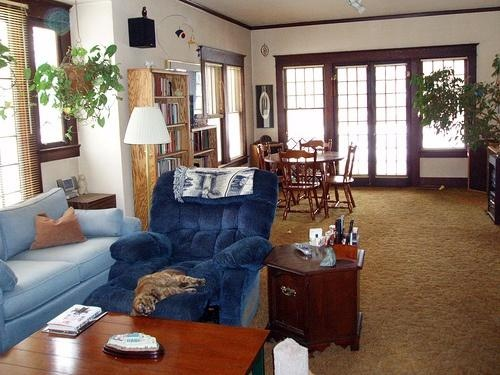cat: (132, 269, 209, 319)
chair: (83, 167, 281, 330), (278, 149, 323, 222), (321, 146, 358, 215), (299, 138, 335, 205)
diningtable: (263, 152, 344, 208)
pottedplant: (25, 46, 125, 128), (412, 55, 500, 148)
sofa: (1, 186, 145, 357)
